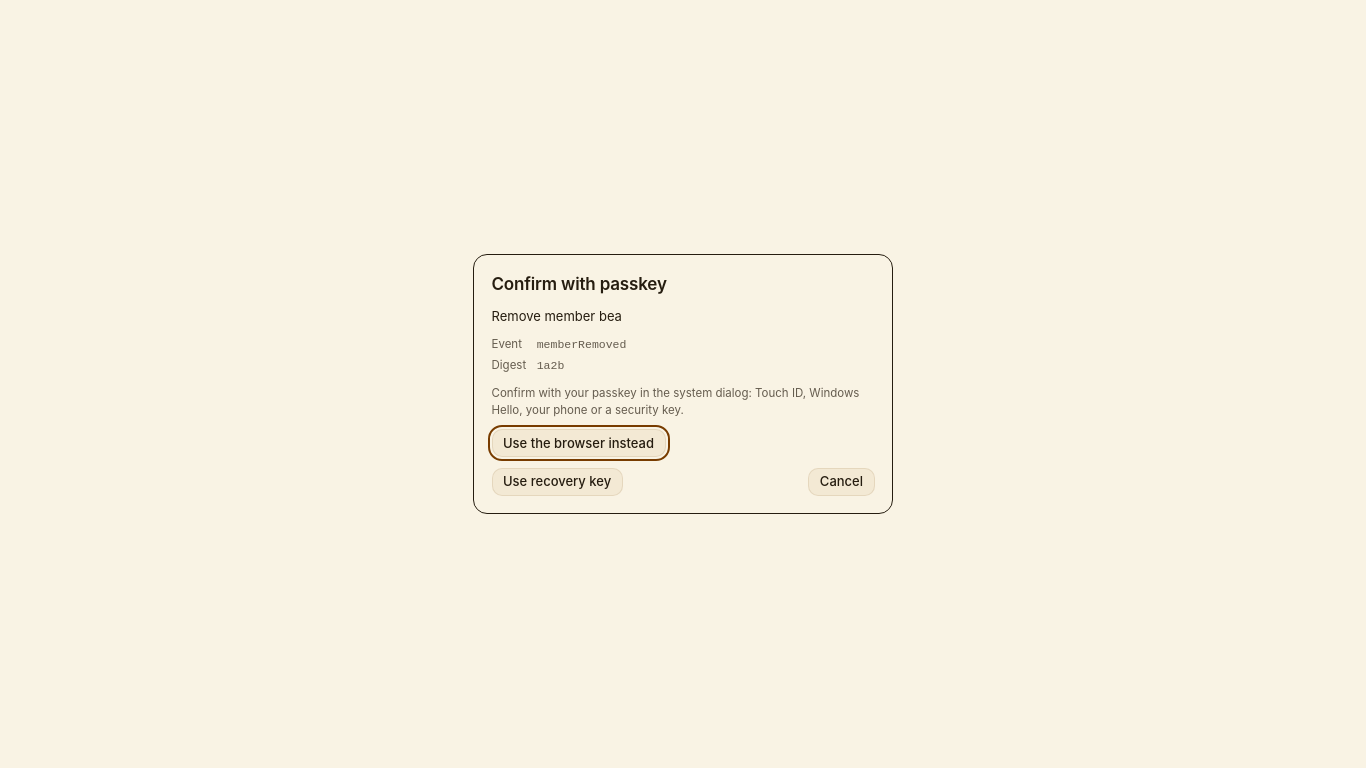
Test: PresenceSheet › names the system dialog on the native path and switches to the browser
Expected: the text with test id "presence-native" shows "system dialog", [492,386,860,417]
Expected: the text "Your browser opened" is not shown
Click the button "Use the browser instead".
click(578, 443)  # box [492,429,666,457]
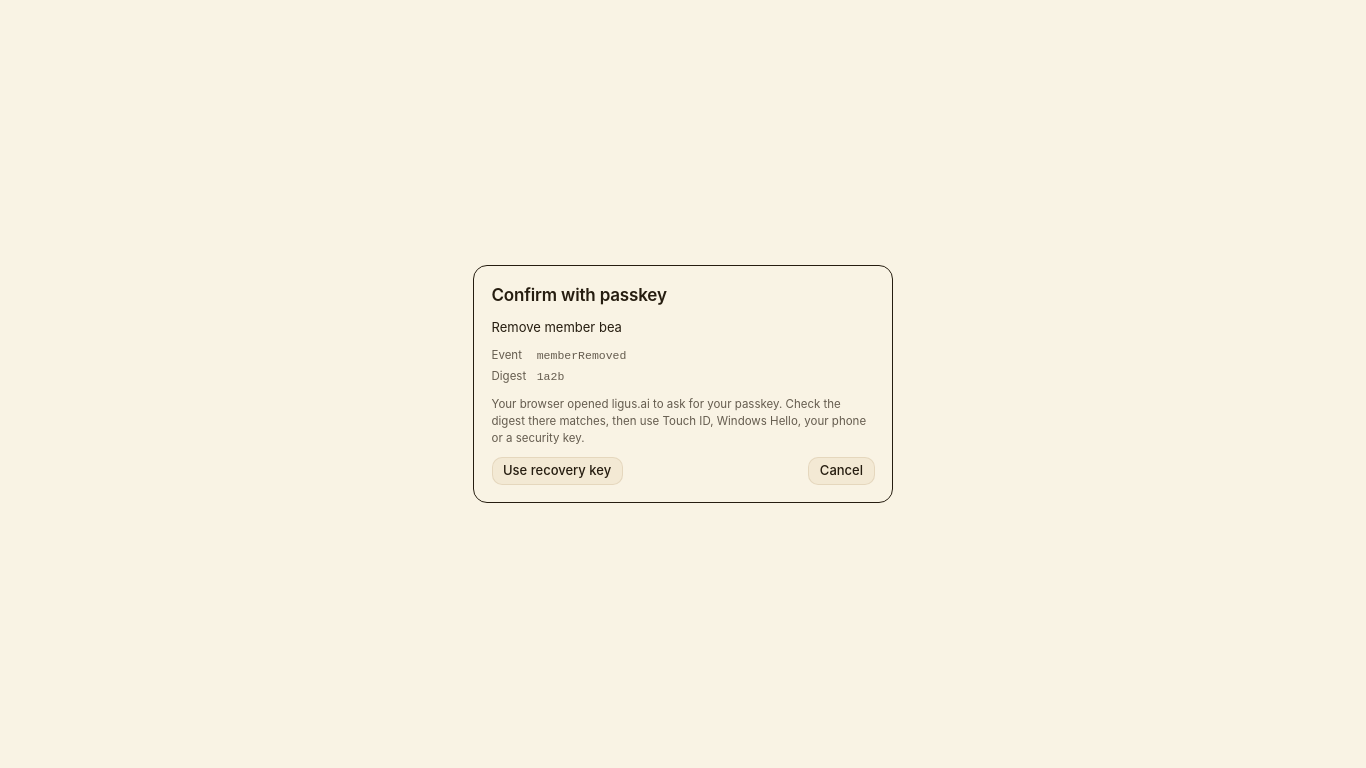
Now the text "Your browser opened" is shown, box [492,397,866,445]
Now the button "Use the browser instead" is gone
